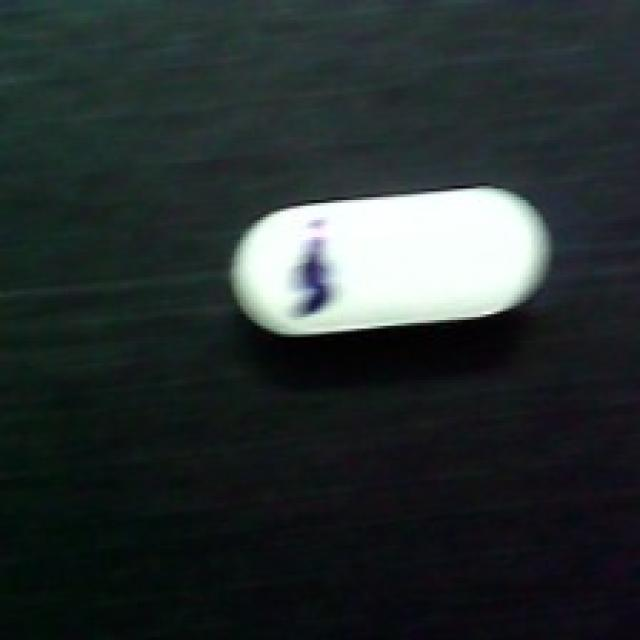defected: (217, 180, 554, 340)
